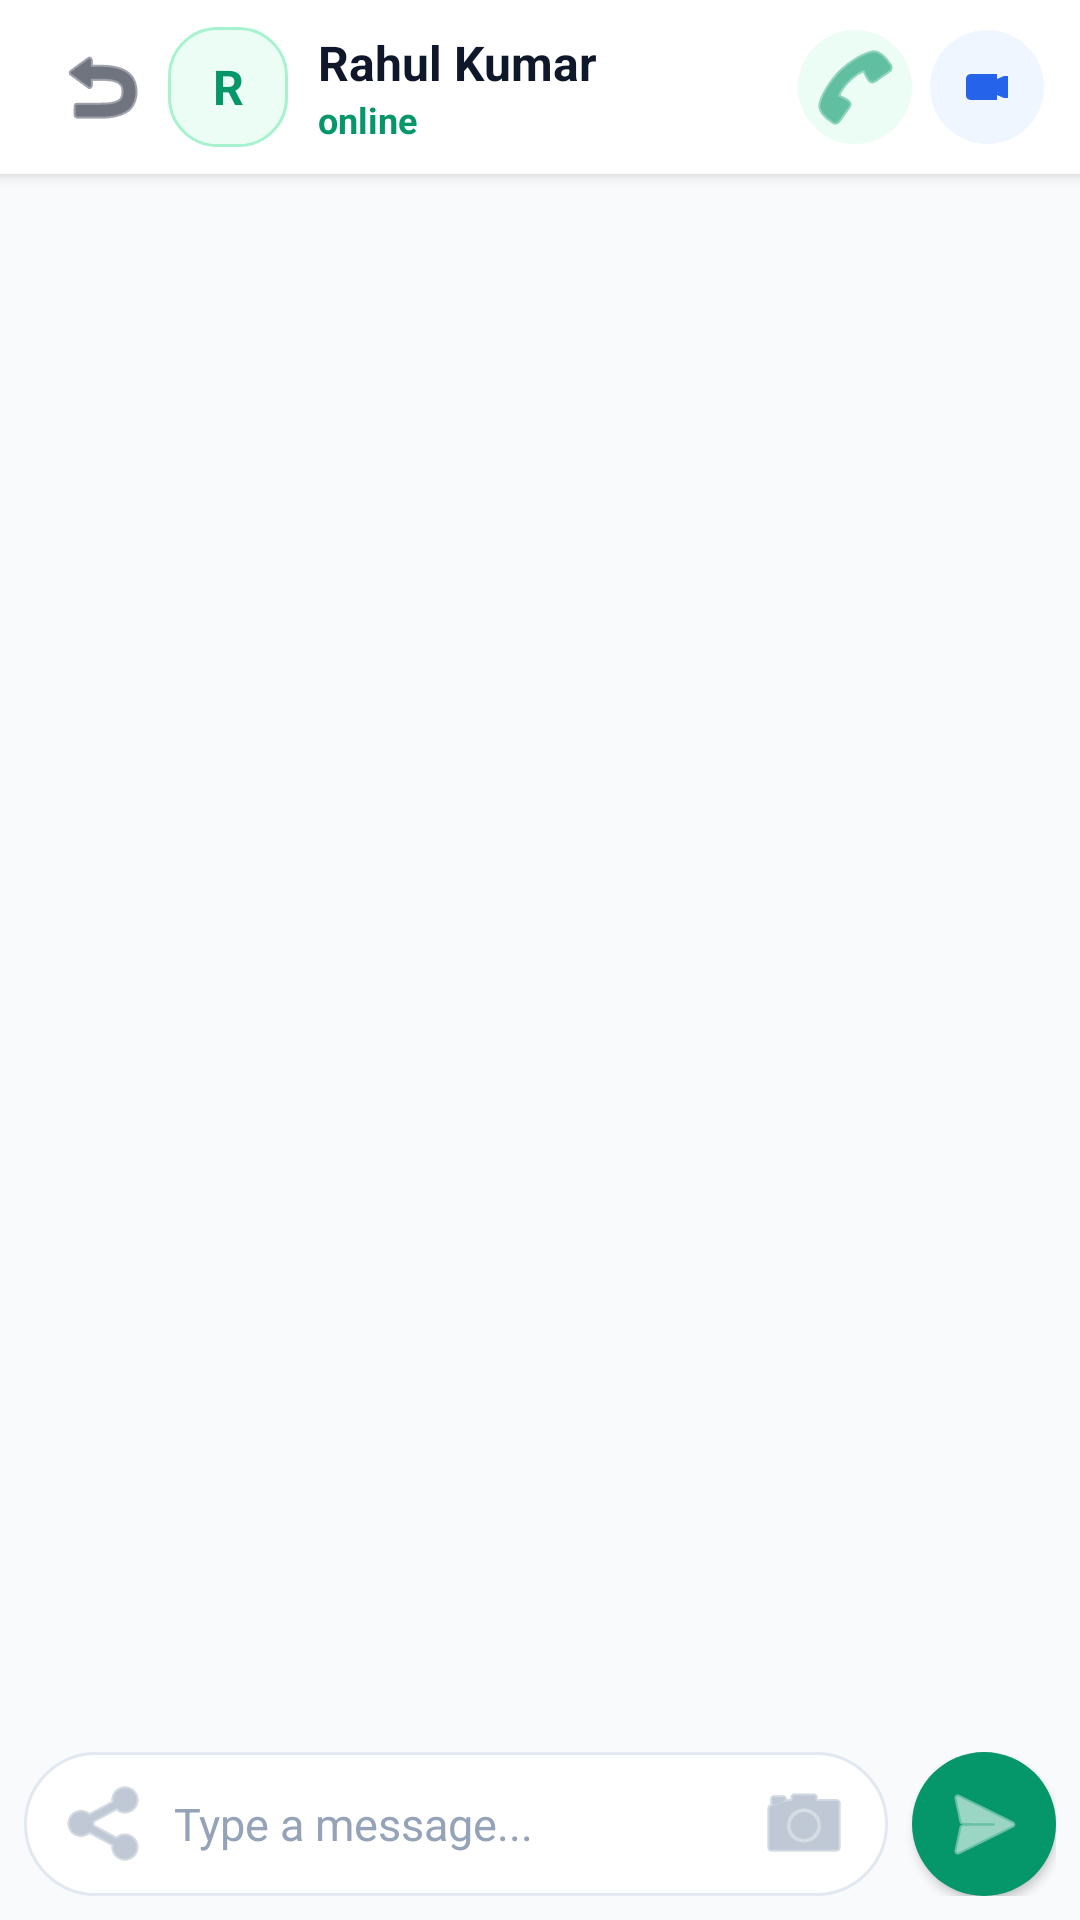

Icon bounding boxes for this 1080×1920 phone screenshot, format (x1=x1, y1=y1, x2=x2, y2=y2):
call: (x1=798, y1=30, x2=912, y2=144)
camera: (x1=767, y1=1793, x2=841, y2=1852)
revert: (x1=69, y1=56, x2=138, y2=119)
send: (x1=912, y1=1752, x2=1056, y2=1896)
share: (x1=67, y1=1786, x2=139, y2=1861)
